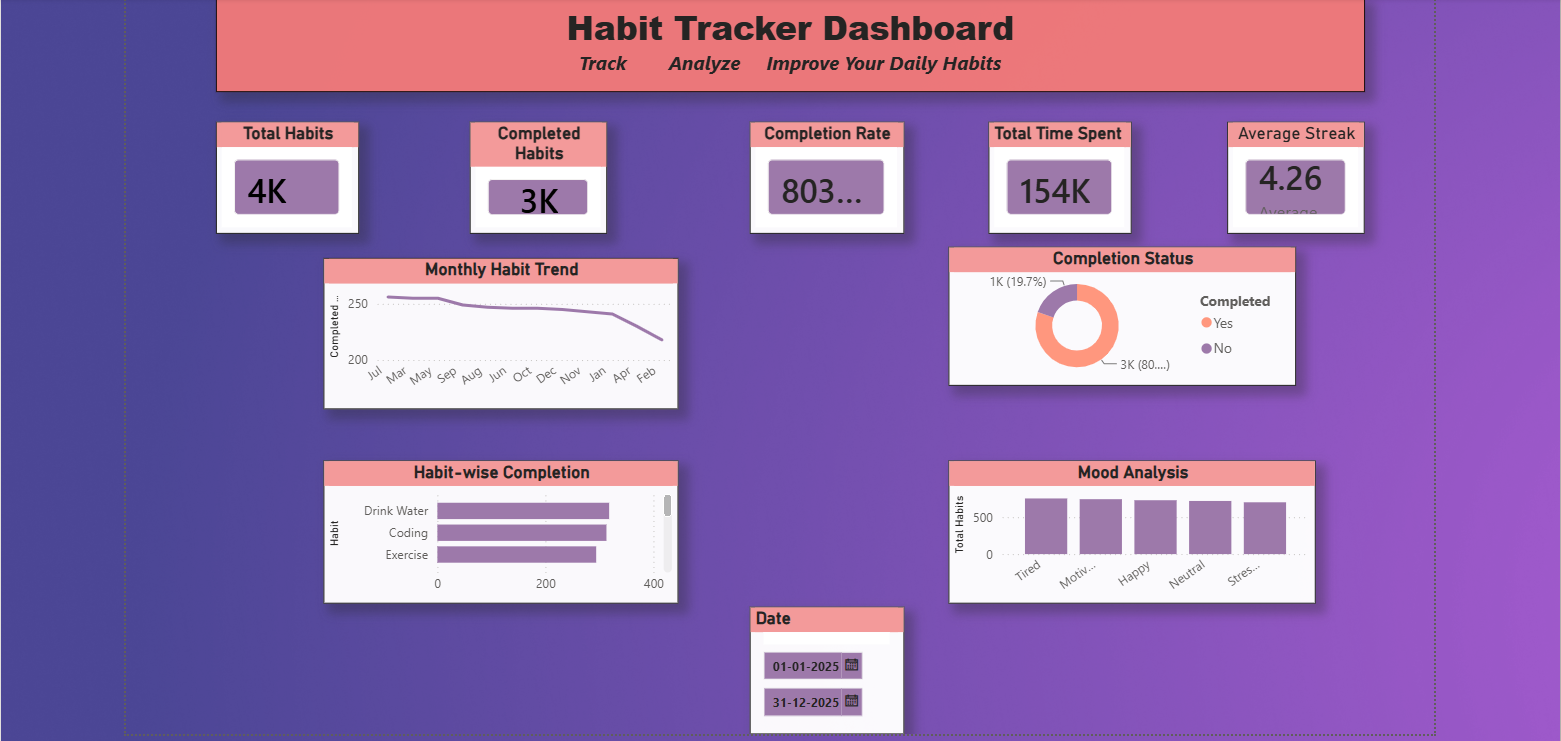

The dashboard page shown, as its layout file describes it:
{"tool":"powerbi","page":{"name":"Page 1","canvas":[1280,720],"ordinal":0},"visuals":[{"type":"cardVisual","title":"Total Time Spent","fields":{"Data":["DateTable.Total Time Spent"]},"box":[843.9,120.8,140,109.8],"z":0},{"type":"cardVisual","title":"Completed Habits","fields":{"Data":["DateTable.Completed Habits"]},"box":[336.2,120.8,134.5,109.8],"z":1},{"type":"cardVisual","title":"Completion Rate","fields":{"Data":["DateTable.Completion Rate"]},"box":[610.6,120.8,150.9,109.8],"z":2},{"type":"cardVisual","title":"Average Streak","fields":{"Data":["DateTable.Average Streak"]},"box":[1077.2,120.8,134.5,109.8],"z":3},{"type":"cardVisual","title":"Total Habits","fields":{"Data":["DateTable.Total Habits"]},"box":[87.8,120.8,140,109.8],"z":4},{"type":"lineChart","title":"Monthly Habit Trend","fields":{"Category":["DateTable.Month Name"],"Y":["DateTable.Completed Habits"]},"box":[193.5,253.9,347.2,148.2],"z":5},{"type":"clusteredBarChart","title":"Habit-wise Completion","fields":{"Category":["habit_tracker.Habit"],"Y":["DateTable.Completed Habits"]},"box":[193.5,452.8,347.2,140],"z":6},{"type":"donutChart","title":"Completion Status","fields":{"Category":["habit_tracker.Completed"],"Y":["DateTable.Total Habits"]},"box":[804.1,242.9,340.3,135.8],"z":7},{"type":"clusteredColumnChart","title":"Mood Analysis","fields":{"Category":["habit_tracker.Mood"],"Y":["DateTable.Total Habits"]},"box":[804.1,452.8,359.5,140],"z":8},{"type":"slicer","title":"Date","fields":{"Values":["DateTable.Date"]},"box":[610.6,595.5,150.9,124.9],"z":9},{"type":"textbox","box":[87.8,0,1123.8,91.9],"z":10}]}

Visuals, with their boxes in screenshot pixels (x1, y1, x2, y2):
"Total Time Spent" cardVisual: select_region(985, 118, 1127, 230)
"Completed Habits" cardVisual: select_region(471, 118, 607, 230)
"Completion Rate" cardVisual: select_region(749, 118, 902, 230)
"Average Streak" cardVisual: select_region(1222, 118, 1358, 230)
"Total Habits" cardVisual: select_region(219, 118, 361, 230)
"Monthly Habit Trend" lineChart: select_region(326, 253, 678, 403)
"Habit-wise Completion" clusteredBarChart: select_region(326, 455, 678, 597)
"Completion Status" donutChart: select_region(945, 242, 1290, 380)
"Mood Analysis" clusteredColumnChart: select_region(945, 455, 1309, 597)
"Date" slicer: select_region(749, 599, 902, 726)
textbox: select_region(219, 0, 1358, 89)
